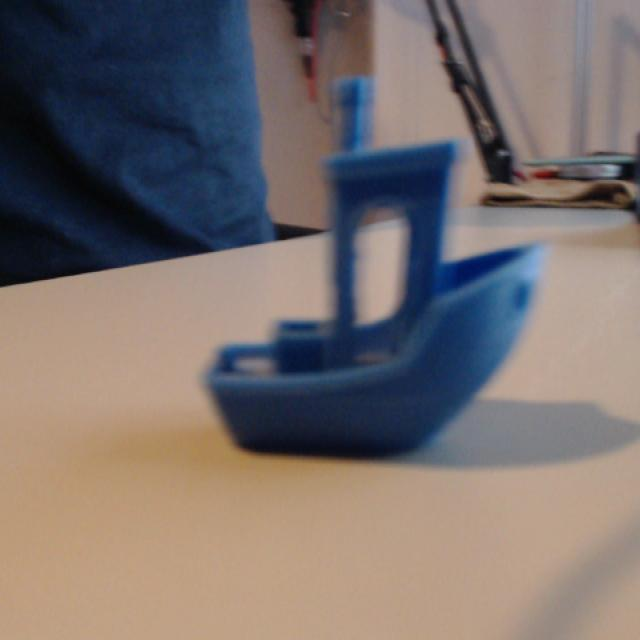benchy: (200, 132, 548, 460)
